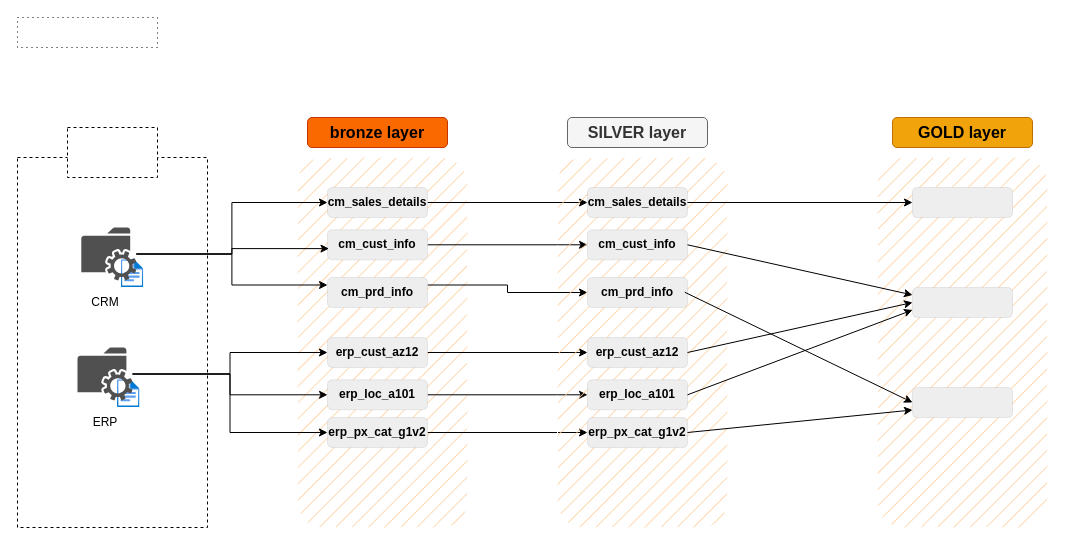
The diagram is 1065 pixels wide and 545 high, and some of its shapes have lost their labels. Each missing label, with the box of its shape:
dim_customers: (912, 287, 1012, 317)
dim_products: (912, 387, 1012, 417)
fact_sales: (912, 187, 1012, 217)
high lever architecture: (16, 16, 158, 48)
source: (66, 126, 158, 178)
